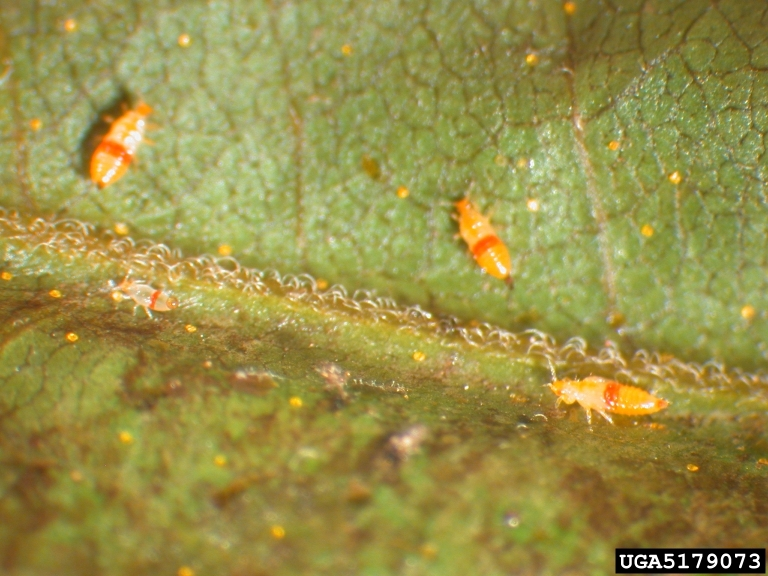Thrips: (534, 358, 674, 438), (447, 186, 518, 299), (87, 104, 158, 197)
